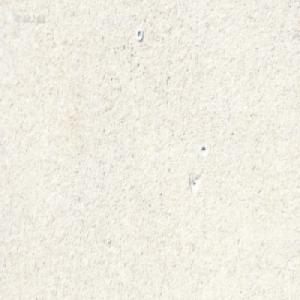Washer: (135, 28, 143, 41)
